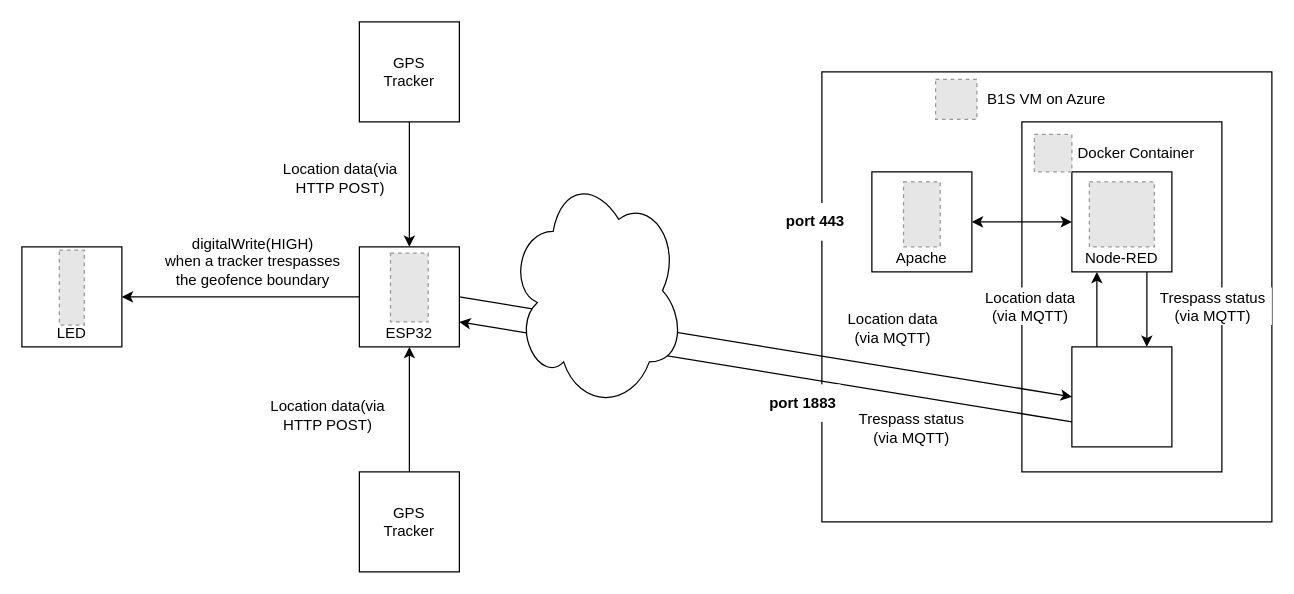
Some shapes in this 1294 by 594 pixel diagram are drawn without their labels. Grey dashed boxes stand in for pictures. Here are the shapes that lost their labels. From the top down, the centre of each, then its label:
the point at 596,290: Internet
the point at 1121,396: MQTT Broker
